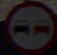No overtake: (7, 4, 50, 44)
